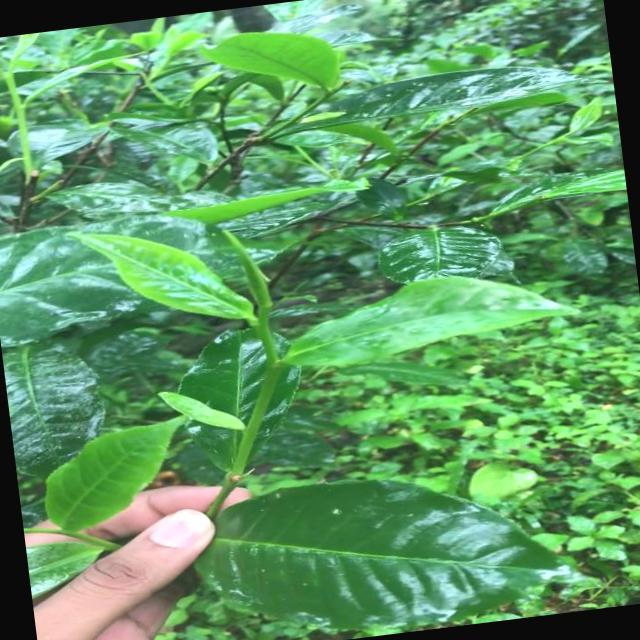Stem: (268, 361, 281, 378)
